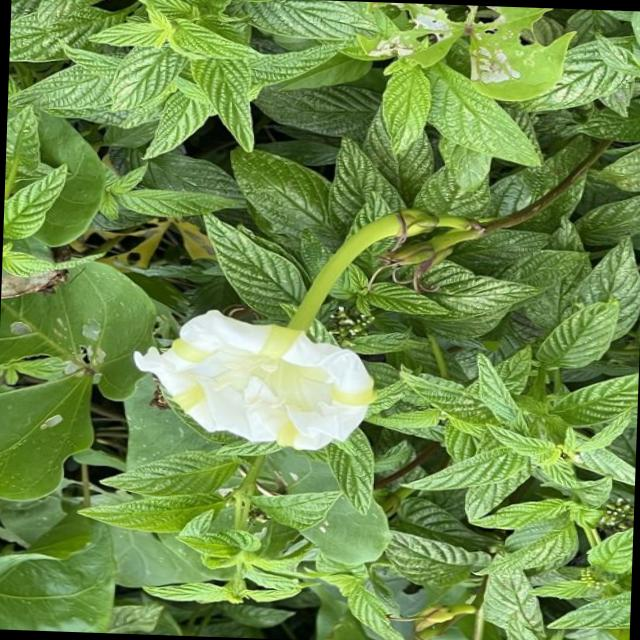ipomoea: (126, 303, 382, 455)
